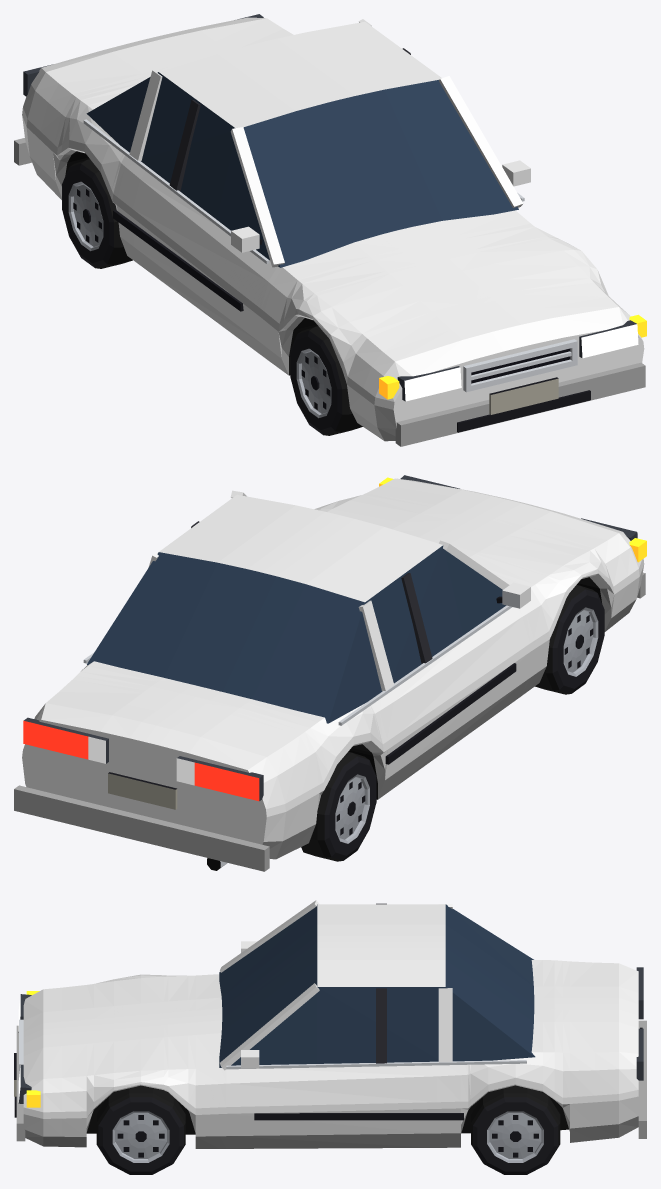
File: sedan.glb
3 views of the same model, one above another, from view 1: azimuth 30°, elevation 25°; view 2: azimuth 150°, elevation 25°; view 3: azimuth 270°, elevation 25° (orthographic). The views are drawn at different scales.
Parts seen in each view (by area): view 1: paint, glass, stripe_a, paint_shade, tire_side (×2), chrome, stripe_b, rim (×2), trim, headlight, tire (×2), plate (+4 smaller); view 2: paint, glass, stripe_a, paint_shade, tire_side (×2), stripe_b, rim (×2), taillight, tire (×2), trim, plate, chrome (+4 smaller); view 3: paint, glass, stripe_a, paint_shade, tire_side (×2), stripe_b, rim (×2), tire (×2), trim, chrome, chrome_housing, trim_under (+1 smaller).
Boxes of the visible parts, bbox=[...] form: paint: bbox=[22, 17, 644, 428]; glass: bbox=[86, 72, 518, 267]; stripe_a: bbox=[101, 29, 562, 358]; paint_shade: bbox=[14, 138, 645, 446]; tire_side (×2): bbox=[62, 163, 342, 434]; chrome: bbox=[83, 119, 577, 392]; stripe_b: bbox=[22, 108, 394, 409]; rim (×2): bbox=[68, 181, 331, 418]; trim: bbox=[113, 210, 590, 432]; headlight: bbox=[404, 324, 638, 401]; tire (×2): bbox=[70, 159, 362, 435]; plate: bbox=[489, 378, 558, 414]; paint: bbox=[22, 478, 643, 844]; glass: bbox=[87, 545, 506, 723]; stripe_a: bbox=[100, 490, 560, 752]; paint_shade: bbox=[14, 572, 645, 871]; tire_side (×2): bbox=[324, 589, 604, 860]; stripe_b: bbox=[266, 559, 644, 816]; rim (×2): bbox=[335, 607, 598, 843]; taillight: bbox=[23, 720, 259, 801]; tire (×2): bbox=[301, 585, 596, 861]; trim: bbox=[108, 596, 516, 789]; plate: bbox=[108, 773, 177, 809]; chrome: bbox=[83, 590, 519, 868]; paint: bbox=[23, 900, 638, 1136]; glass: bbox=[219, 904, 535, 1067]; stripe_a: bbox=[23, 924, 638, 1055]; paint_shade: bbox=[16, 1020, 646, 1148]; tire_side (×2): bbox=[98, 1097, 558, 1174]; stripe_b: bbox=[23, 1077, 638, 1118]; rim (×2): bbox=[112, 1111, 543, 1162]; tire (×2): bbox=[96, 1085, 560, 1163]; trim: bbox=[14, 1027, 642, 1120]; chrome: bbox=[19, 1019, 526, 1076]; chrome_housing: bbox=[18, 967, 643, 1103]; trim_under: bbox=[86, 1090, 568, 1134].
Size of the model in its own units: 1.96 by 1.44 by 4.53.
